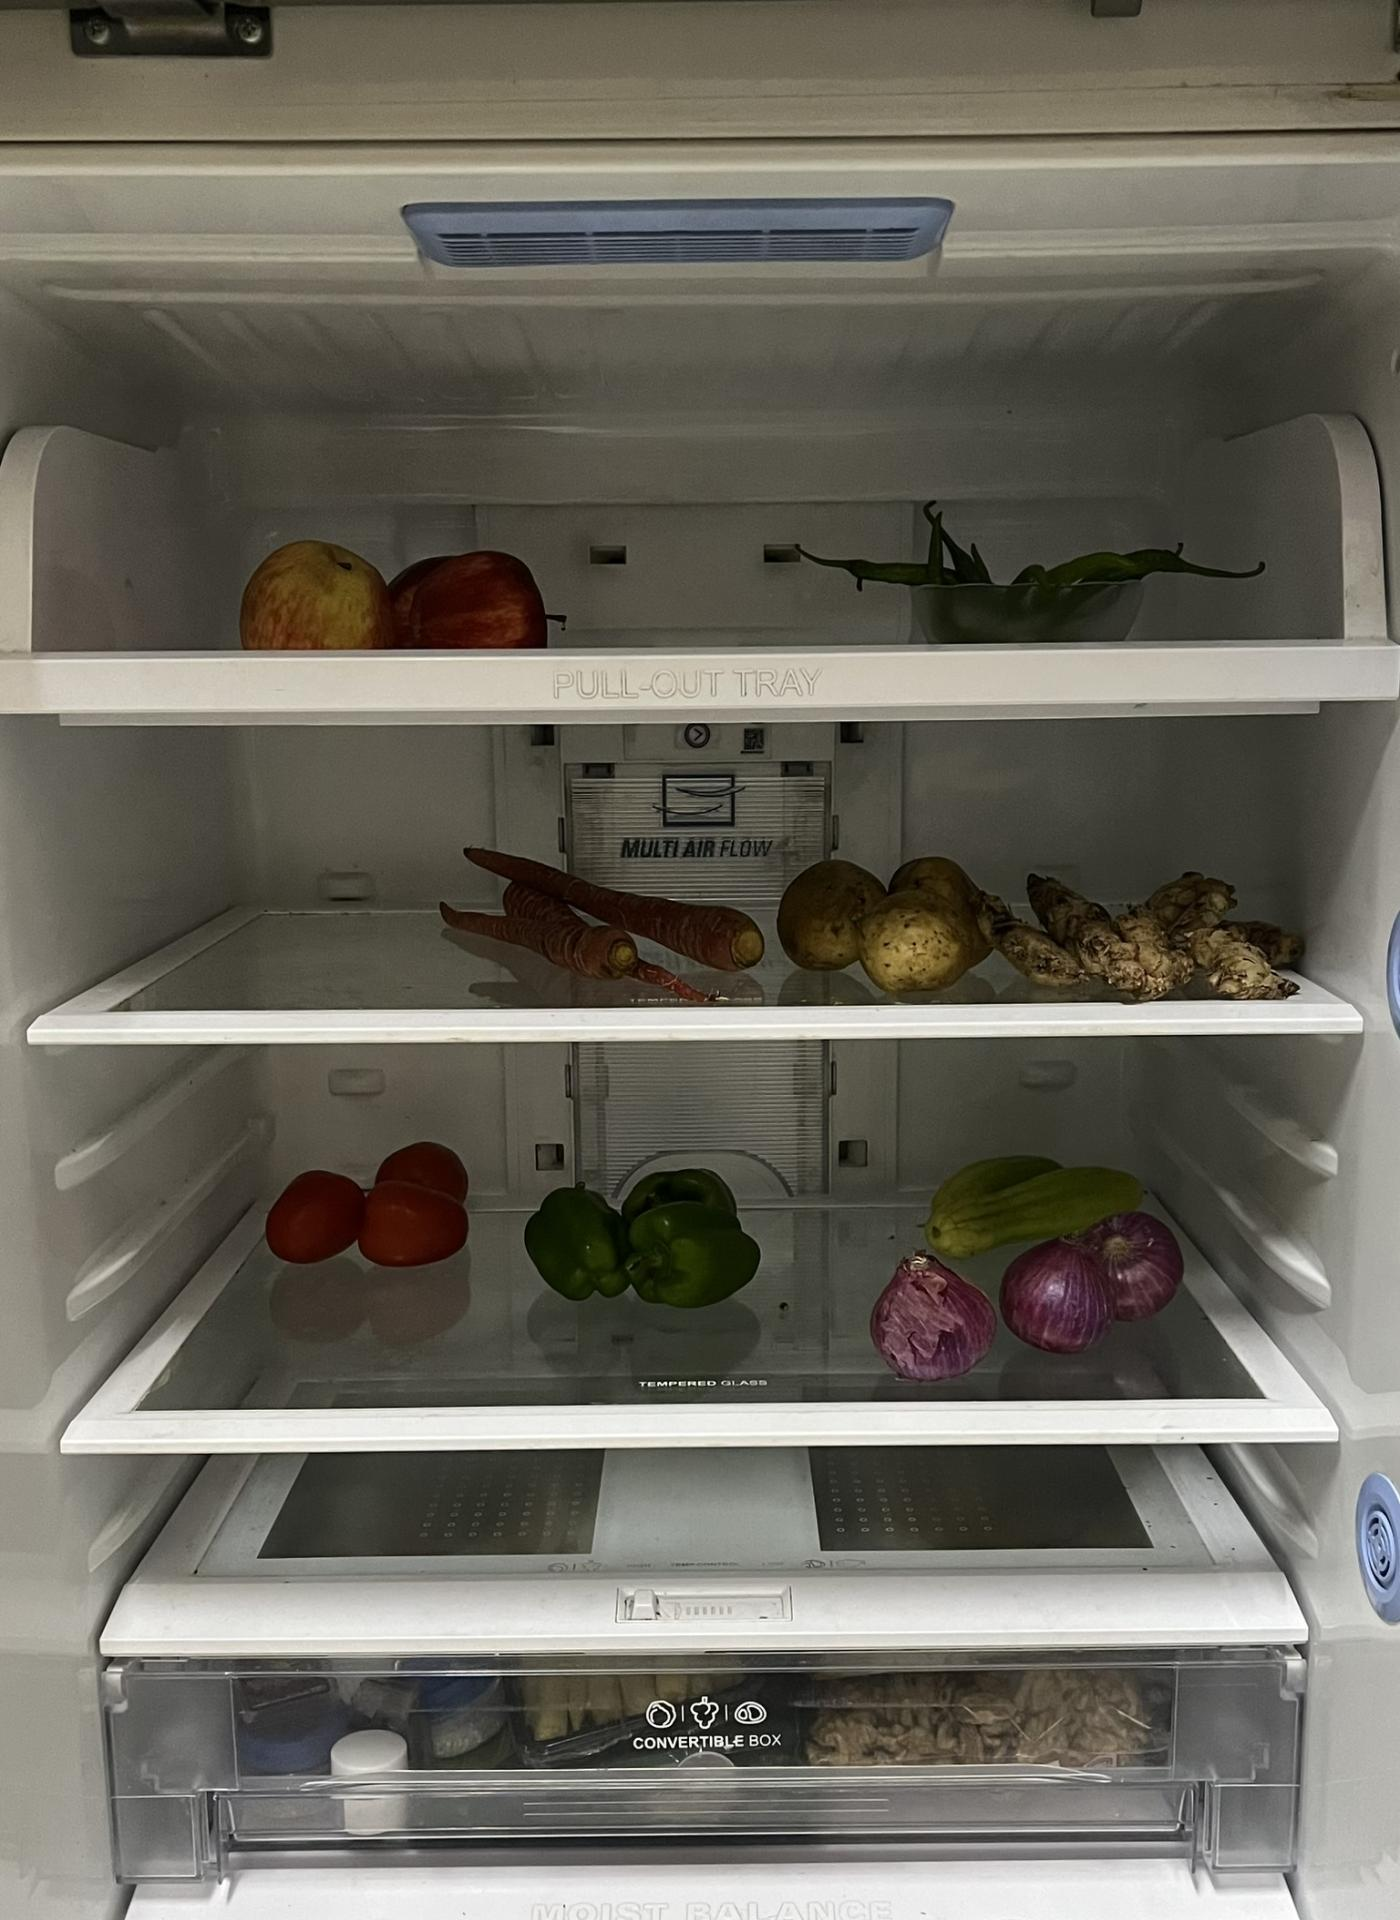apple: (239, 544, 559, 665)
capsicum: (528, 1166, 756, 1306)
carrots: (446, 833, 760, 976)
chillies: (798, 504, 1272, 650)
cucumber: (923, 1157, 1173, 1263)
onion: (872, 1221, 1196, 1385)
potato: (993, 863, 1297, 999), (769, 844, 1002, 982)
tomato: (265, 1145, 471, 1275)
